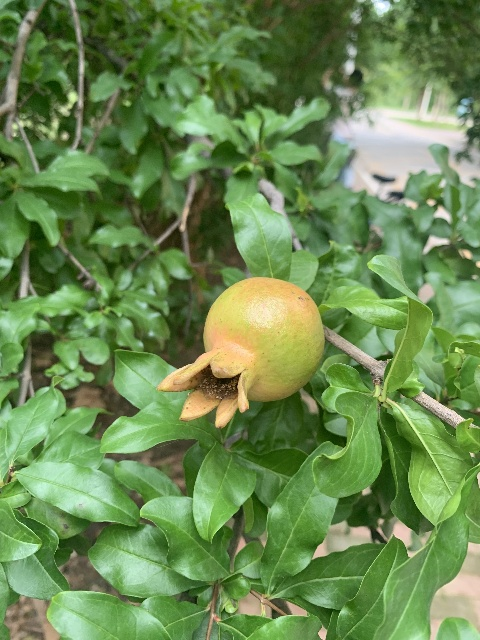mid-growth: (156, 276, 325, 430)
